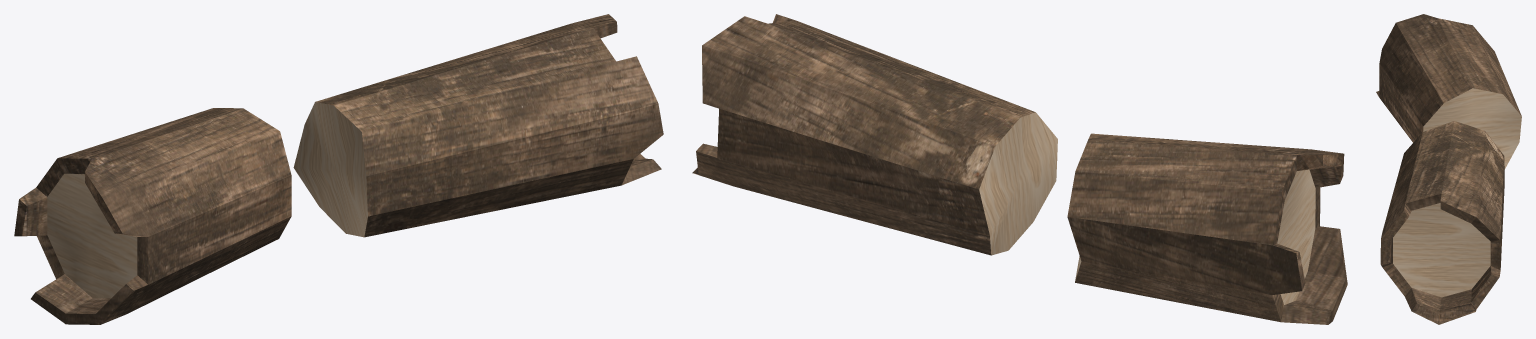
The model's file is Wood2.fbx.
The picture shows the model from 3 angles, left to right: view 1: azimuth 30°, elevation 25°; view 2: azimuth 150°, elevation 25°; view 3: azimuth 270°, elevation 25°; orthographic projection. The views are drawn at different scales.
Visible parts, largest first — view 1: Wood3; view 2: Wood3; view 3: Wood3.
Part boxes in pixels (<box>): Wood3: <box>14,14,663,324</box>; Wood3: <box>692,14,1347,324</box>; Wood3: <box>1376,14,1521,324</box>.
Bounding box in the file's own units: 3.31 × 0.8411 × 0.9439.
1 material, 1 textured.
